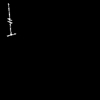treble_crochet: (9, 14, 11, 34)
